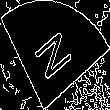N_SW: (32, 24, 78, 86)
